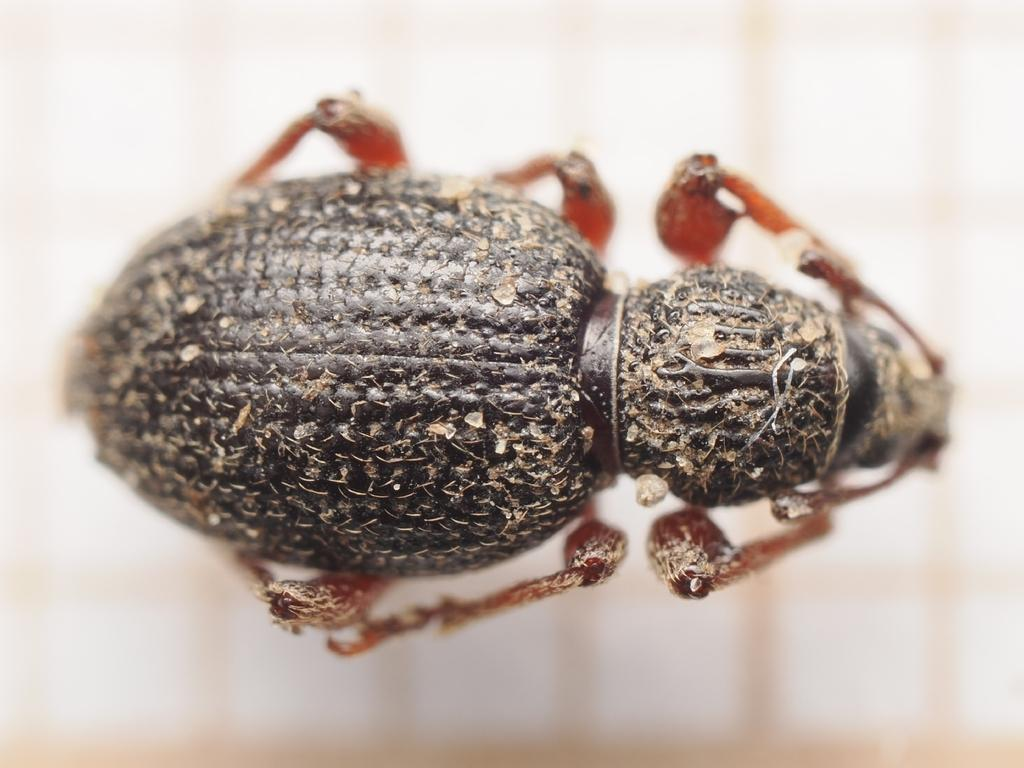weevils: (2, 43, 1024, 717)
